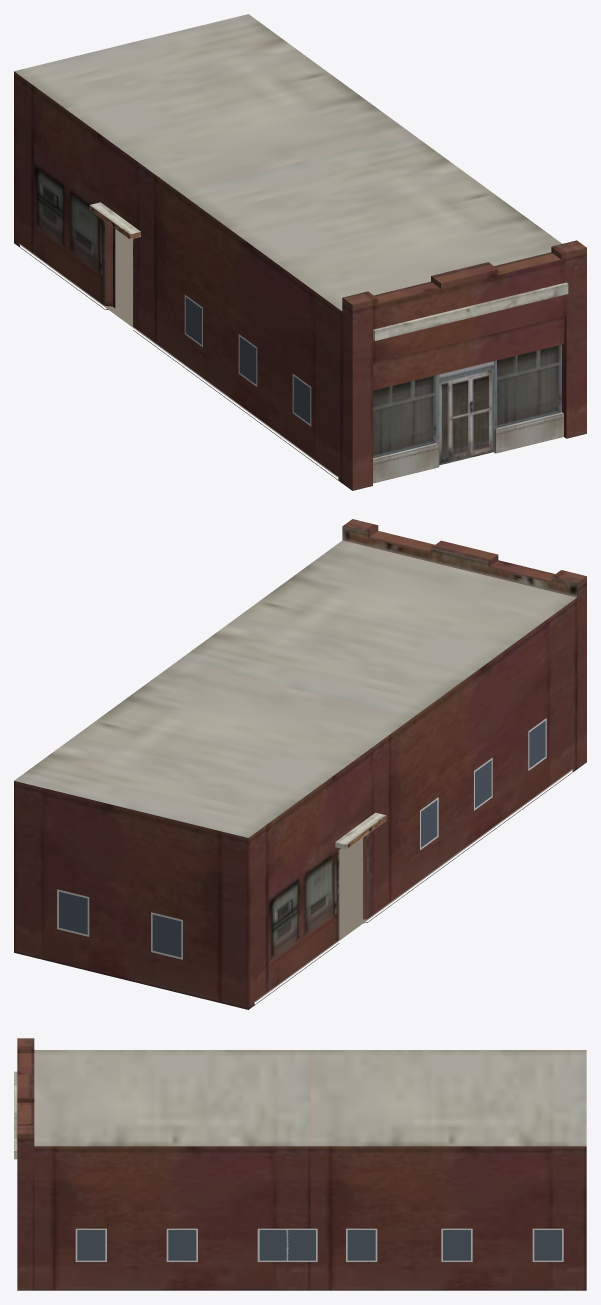
The model's file is rural-store-5.windows-v1.lod1.glb.
3 renders of one model, top to bottom at view 1: azimuth 30°, elevation 25°; view 2: azimuth 150°, elevation 25°; view 3: azimuth 270°, elevation 25°, orthographic. The views are drawn at different scales.
Visible parts, largest first — view 1: Rural_StoreSmall_5_Rural_Facade_FLR_2_0, Rural_StoreSmall_5_Rural_Brownstone_Facade_Flr_6_0, Window glass and frames, Walkable floors and stairs; view 2: Rural_StoreSmall_5_Rural_Brownstone_Facade_Flr_6_0, Rural_StoreSmall_5_Rural_Facade_FLR_2_0, Window glass and frames, Walkable floors and stairs; view 3: Rural_StoreSmall_5_Rural_Brownstone_Facade_Flr_6_0, Rural_StoreSmall_5_Rural_Facade_FLR_2_0, Window glass and frames.
Boxes of the visible parts, x1,y1,x2,y2 form: Rural_StoreSmall_5_Rural_Facade_FLR_2_0: [14, 14, 568, 483]; Rural_StoreSmall_5_Rural_Brownstone_Facade_Flr_6_0: [14, 71, 586, 490]; Window glass and frames: [184, 294, 311, 426]; Walkable floors and stairs: [19, 229, 337, 476]; Rural_StoreSmall_5_Rural_Brownstone_Facade_Flr_6_0: [14, 519, 586, 1009]; Rural_StoreSmall_5_Rural_Facade_FLR_2_0: [14, 526, 576, 922]; Window glass and frames: [57, 718, 546, 959]; Walkable floors and stairs: [255, 769, 573, 1001]; Rural_StoreSmall_5_Rural_Brownstone_Facade_Flr_6_0: [17, 1038, 586, 1290]; Rural_StoreSmall_5_Rural_Facade_FLR_2_0: [14, 1050, 586, 1159]; Window glass and frames: [75, 1228, 563, 1261].
Bounding box in the file's own units: 8.39 × 6.06 × 20.13.
Materials: 4 (2 with a texture image).
